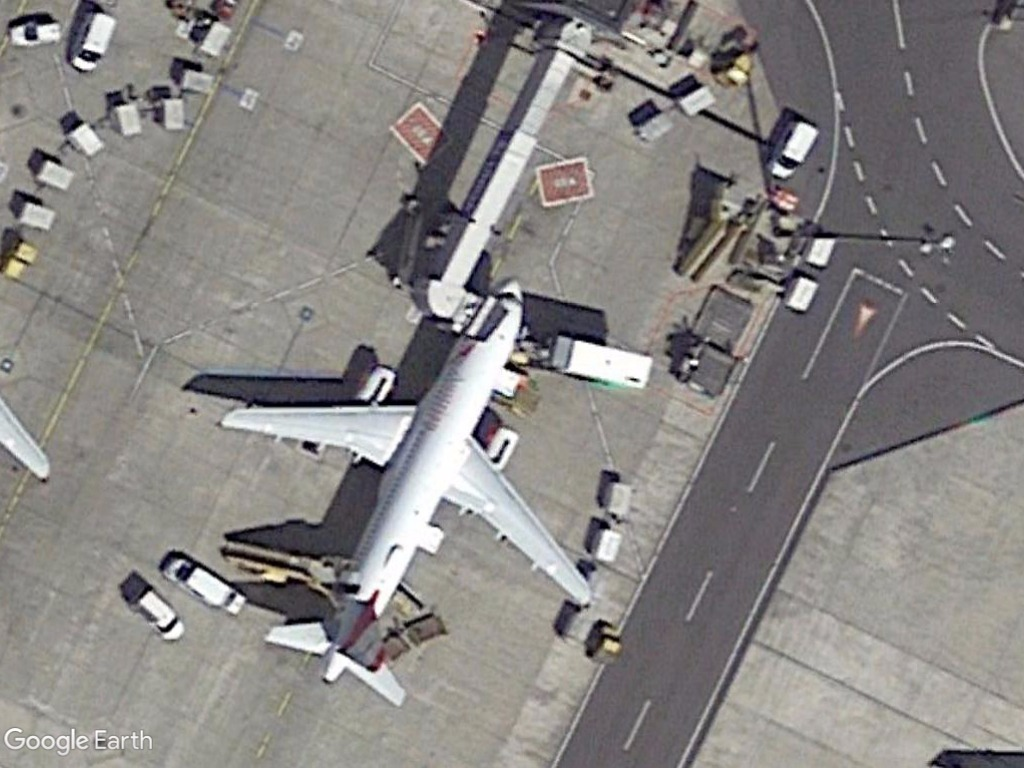airliner: (214, 269, 597, 712)
stairtruck: (215, 528, 346, 604)
van: (164, 553, 234, 612), (765, 118, 823, 182), (126, 588, 188, 644), (68, 7, 119, 75), (7, 21, 66, 50)
